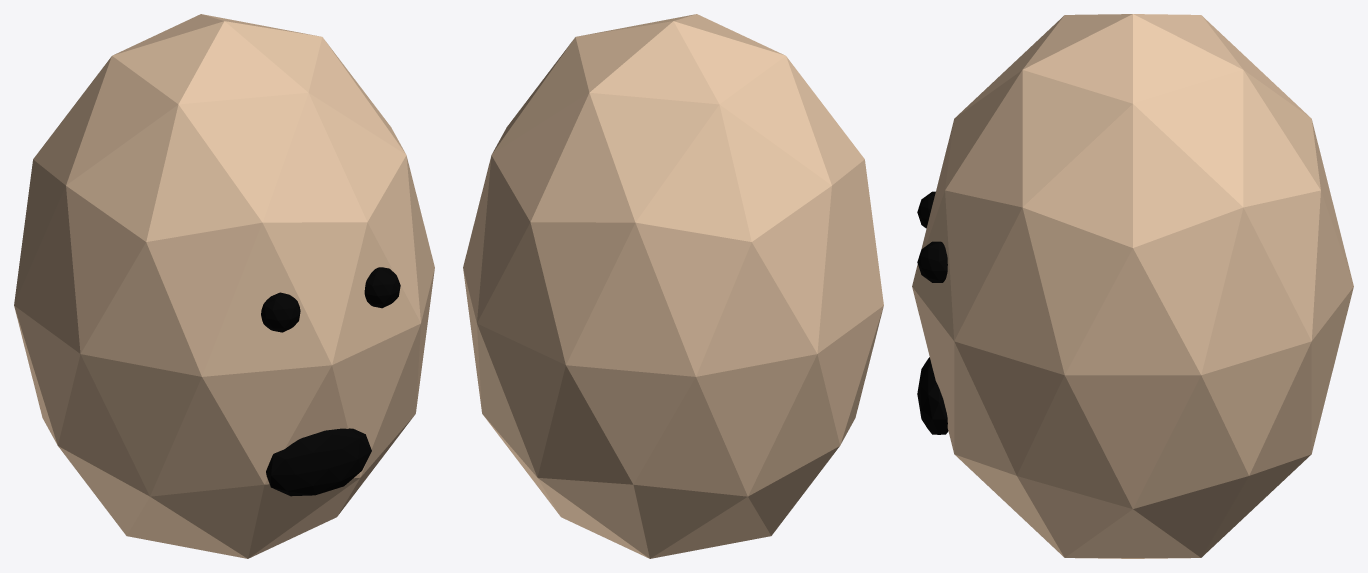
3 renders of one model, left to right at view 1: azimuth 30°, elevation 25°; view 2: azimuth 150°, elevation 25°; view 3: azimuth 270°, elevation 25°, orthographic. The views are drawn at different scales.
Visible parts, largest first — view 1: Icosphere.003; view 2: Icosphere.003; view 3: Icosphere.003.
Boxes of the visible parts, left/top/right/bottom form: Icosphere.003: left=14, top=14, right=434, bottom=558; Icosphere.003: left=463, top=14, right=883, bottom=558; Icosphere.003: left=912, top=14, right=1353, bottom=558.
Size of the model in its own units: 190 by 272 by 200.
